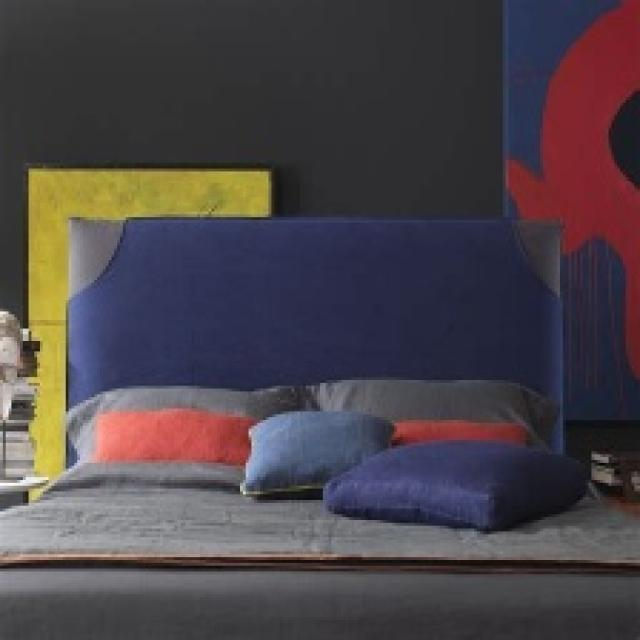Bed: (0, 163, 637, 637)
